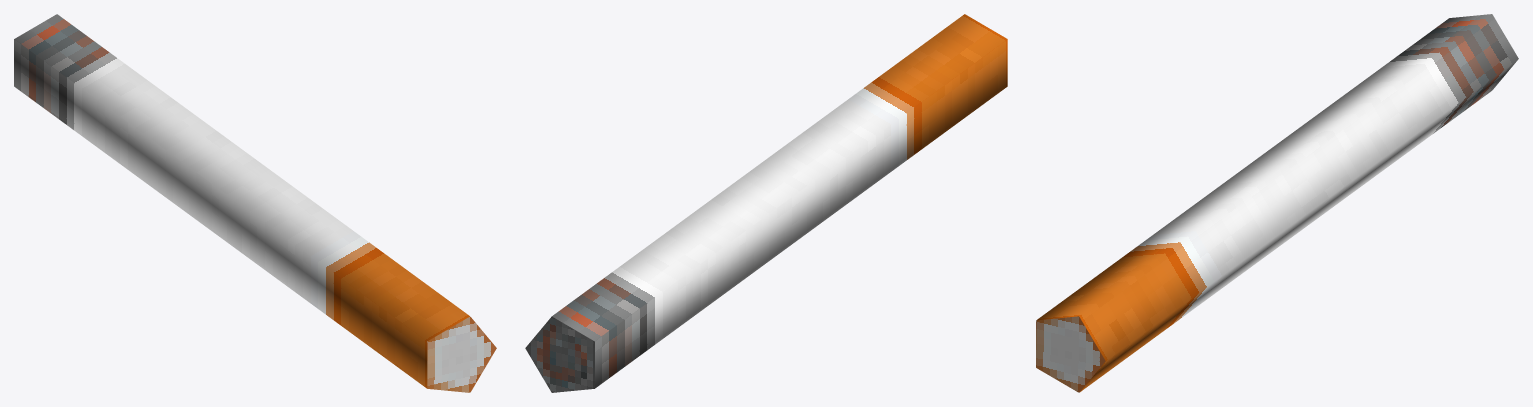
Rendered from WorldItem_Cigarette.fbx.
3 renders of one model, left to right at view 1: azimuth 30°, elevation 25°; view 2: azimuth 150°, elevation 25°; view 3: azimuth 330°, elevation 25°, orthographic.
Visible parts, largest first — view 1: Cigarette.002; view 2: Cigarette.002; view 3: Cigarette.002.
Part boxes in pixels (left/top/right/bottom): Cigarette.002: left=14, top=14, right=496, bottom=392; Cigarette.002: left=525, top=14, right=1007, bottom=392; Cigarette.002: left=1036, top=14, right=1518, bottom=392.
Bounding box in the file's own units: 0.00537 × 0.00565 × 0.0551.
